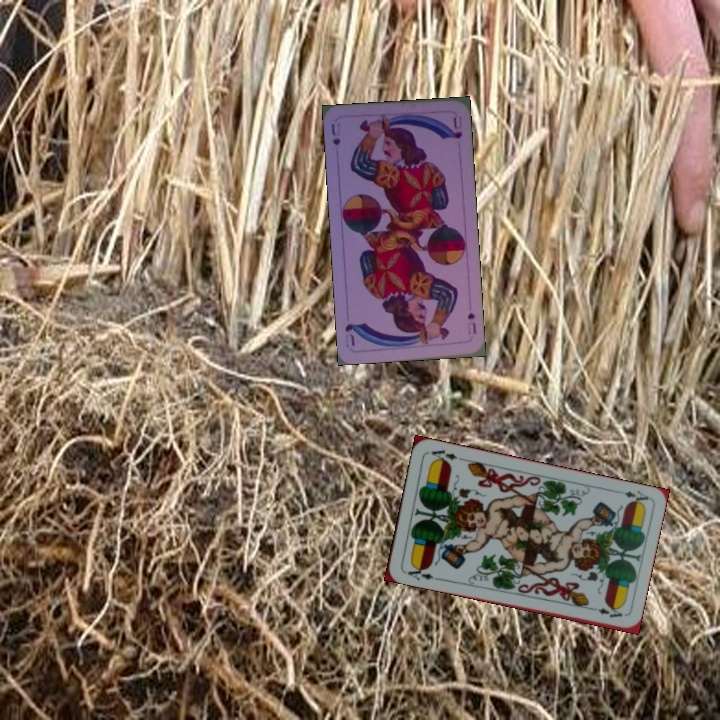EA: (404, 561, 441, 583), (620, 487, 651, 507)
SU: (327, 119, 343, 148), (464, 308, 479, 336)
